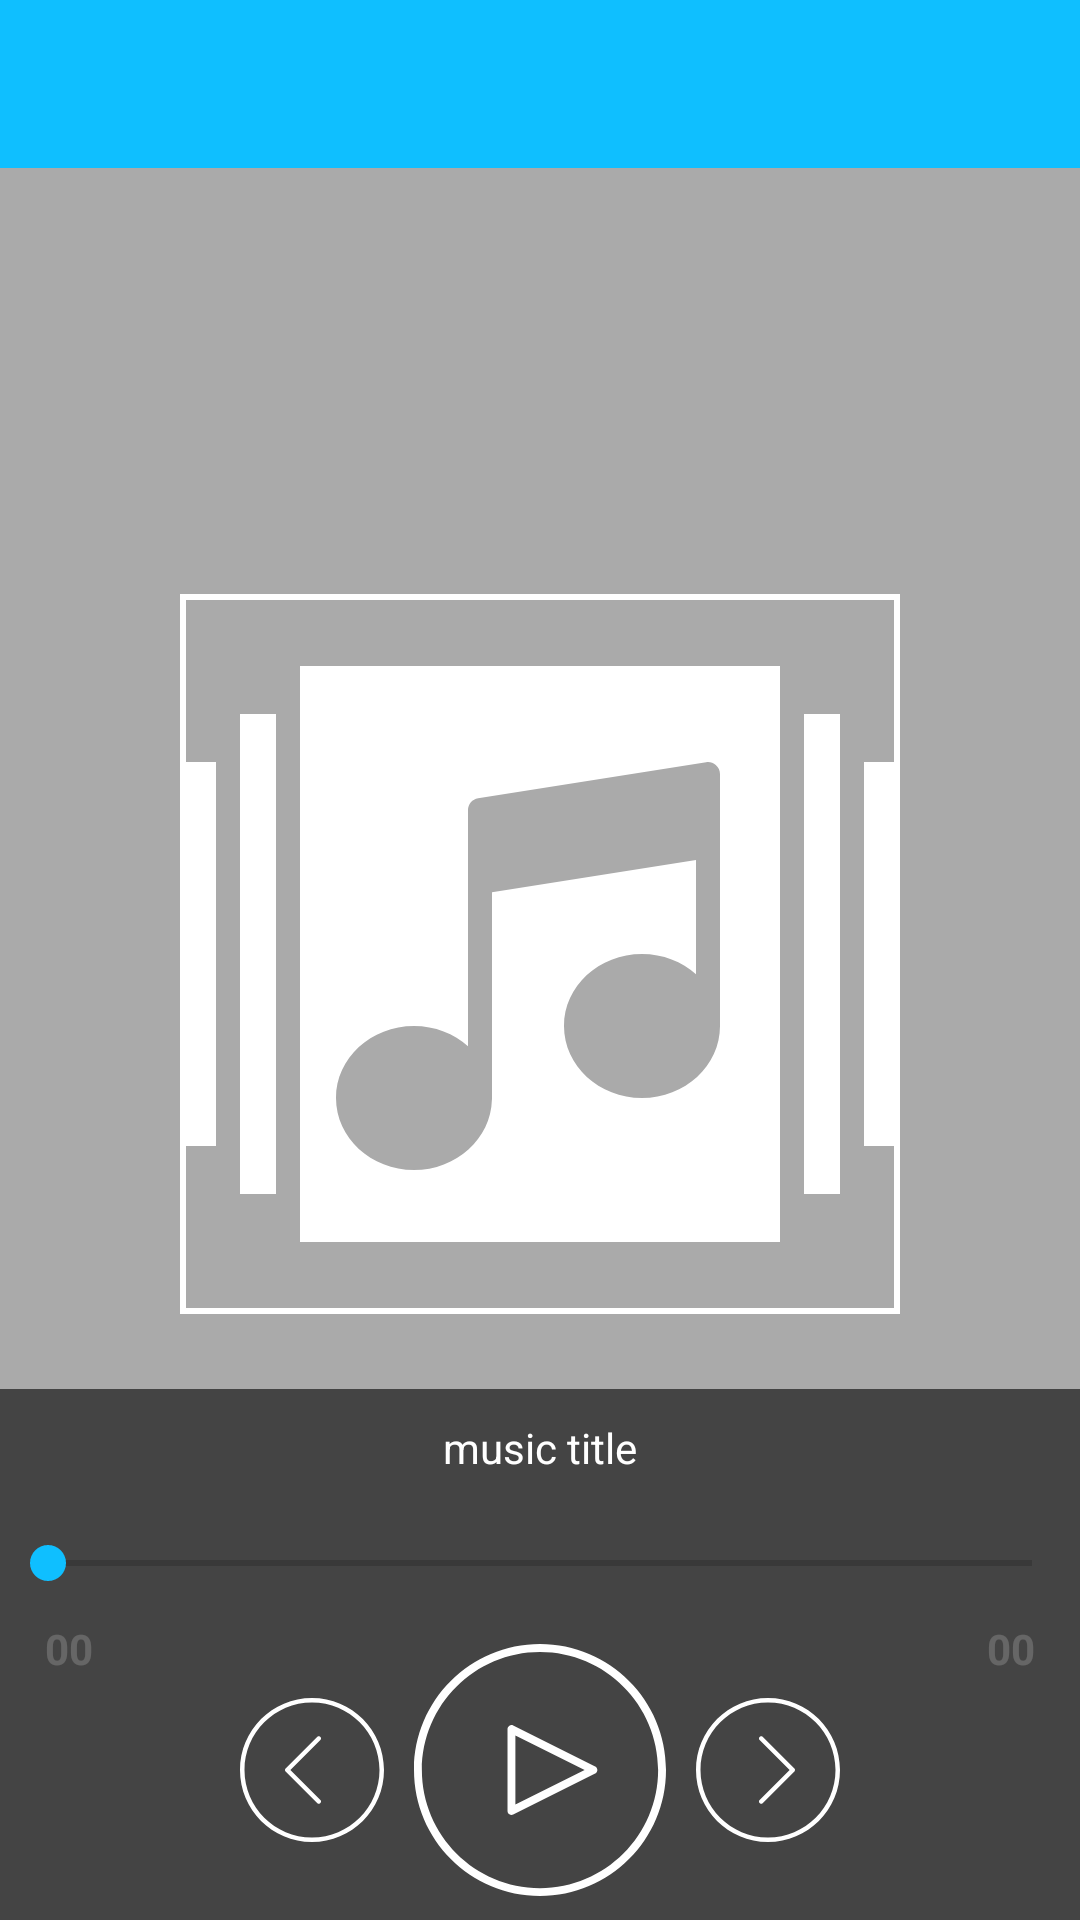

Icons on this 1080 × 1920 Android screen, each with the point to tap as point (x, y):
left: point (312, 1770)
play: point (540, 1770)
rigth: point (768, 1770)
